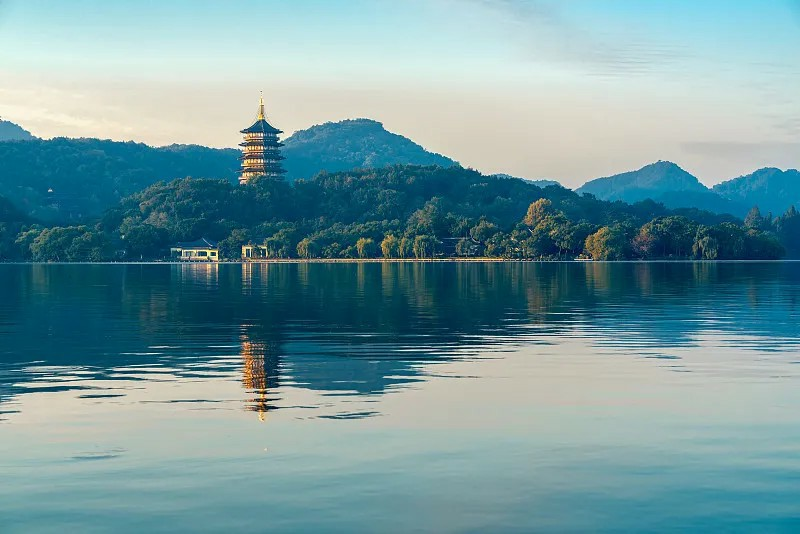Leifeng: (238, 88, 289, 184)
